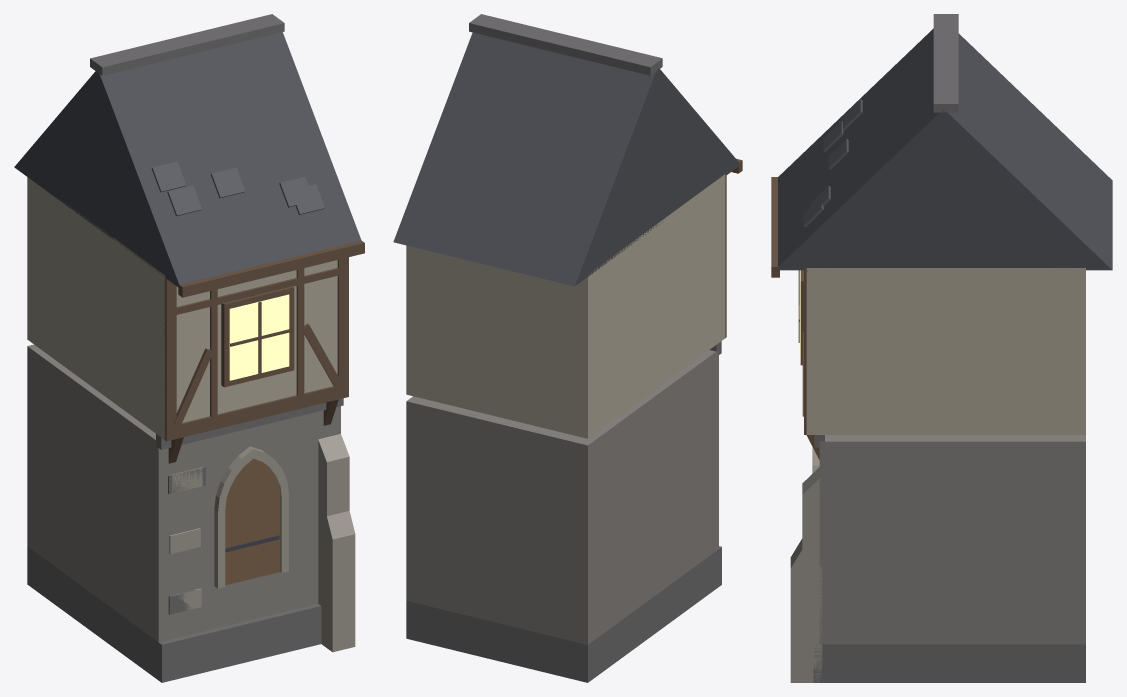
Rendered from range_dim.glb.
The picture shows the model from 3 angles, left to right: view 1: azimuth 30°, elevation 25°; view 2: azimuth 150°, elevation 25°; view 3: azimuth 270°, elevation 25°; orthographic projection.
Parts seen in each view (by area): view 1: Upper, Plinth; view 2: Upper, Plinth; view 3: Upper, Plinth.
Part boxes in pixels (box(x1,y1,x2,y2)): Upper: box(14, 14, 364, 652); Plinth: box(27, 546, 355, 682); Upper: box(393, 14, 742, 644); Plinth: box(406, 546, 721, 682); Upper: box(771, 14, 1112, 682); Plinth: box(790, 639, 1085, 682).
Bounding box in the file's own units: 4 × 12 × 6.41.
